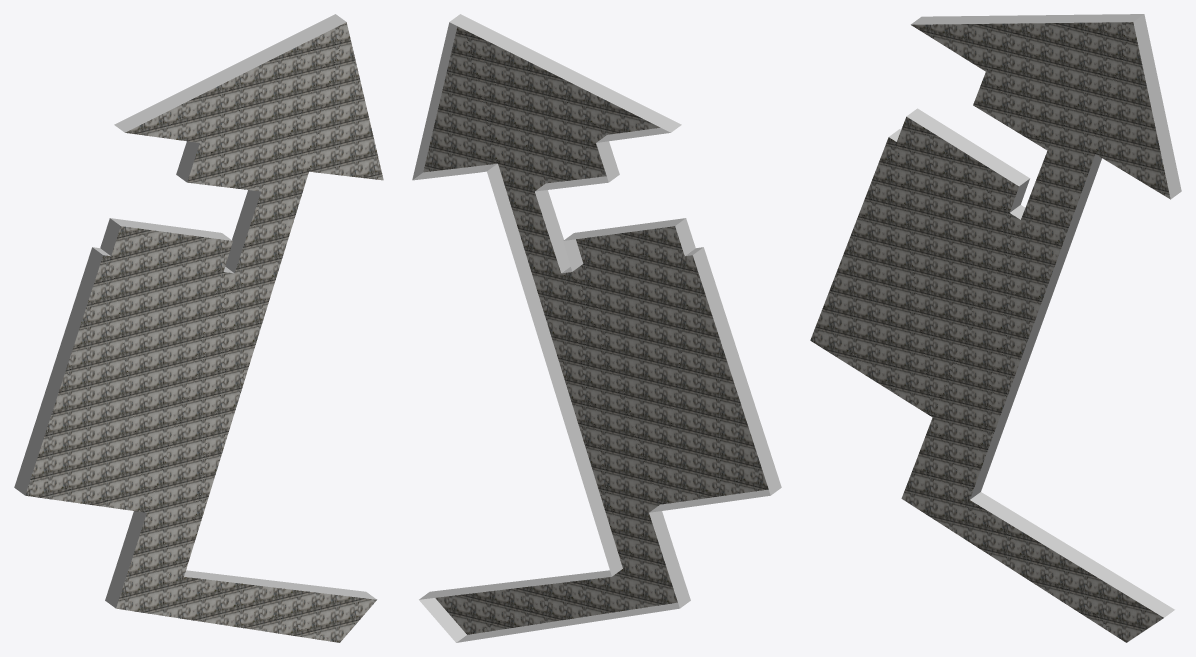
The model's file is geospecific_244.obj.
3 views of the same model, side by side, from view 1: azimuth 30°, elevation 25°; view 2: azimuth 150°, elevation 25°; view 3: azimuth 330°, elevation 25° (orthographic).
Parts seen in each view (by area): view 1: Building; view 2: Building; view 3: Building.
Part boxes in pixels (x1,y1,x2,y2): Building: (14, 14, 383, 642); Building: (412, 14, 781, 642); Building: (810, 14, 1181, 642).
Bounding box in the file's own units: 56.21 × 92.76 × 3.
